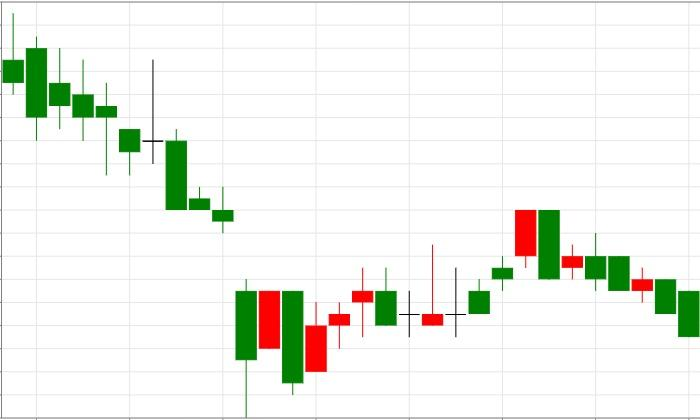bearish_engulfing_fall: (421, 209, 561, 338)
